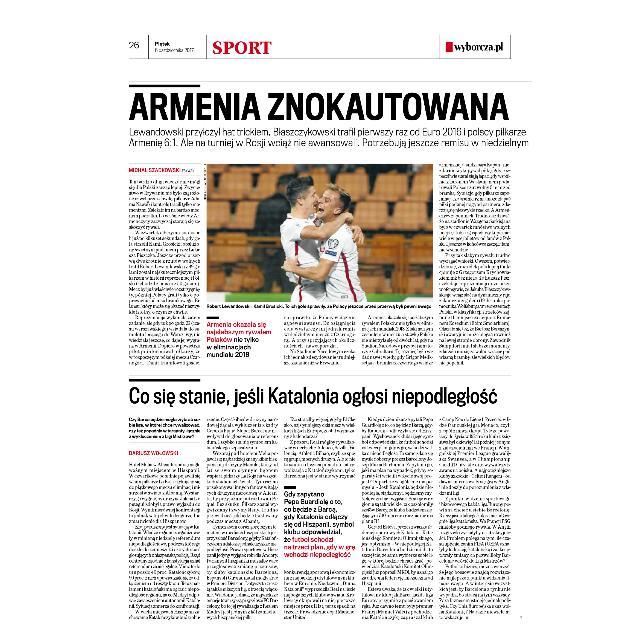article: (126, 84, 530, 366), (128, 377, 512, 623)
